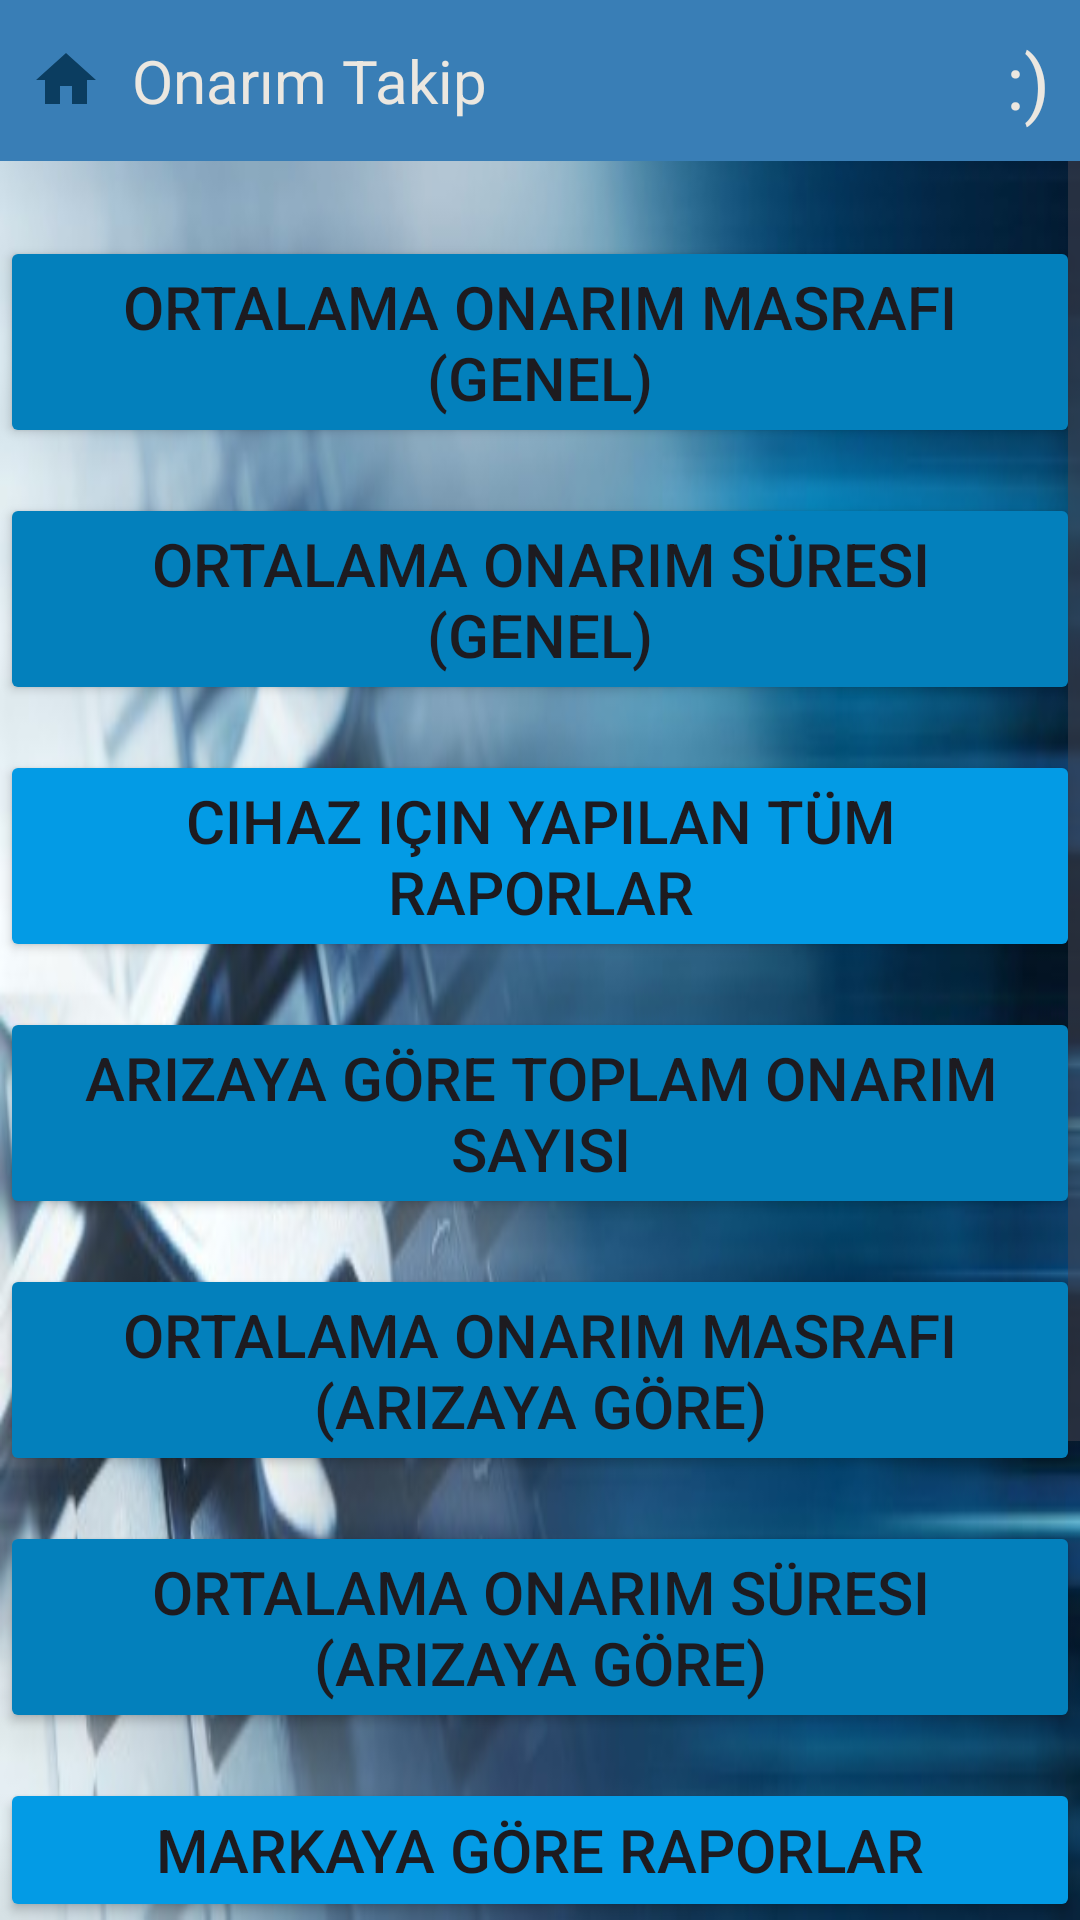

Named icons in this screenshot (1080*1920) and their centers, [x,y]:
home: [66,78]
